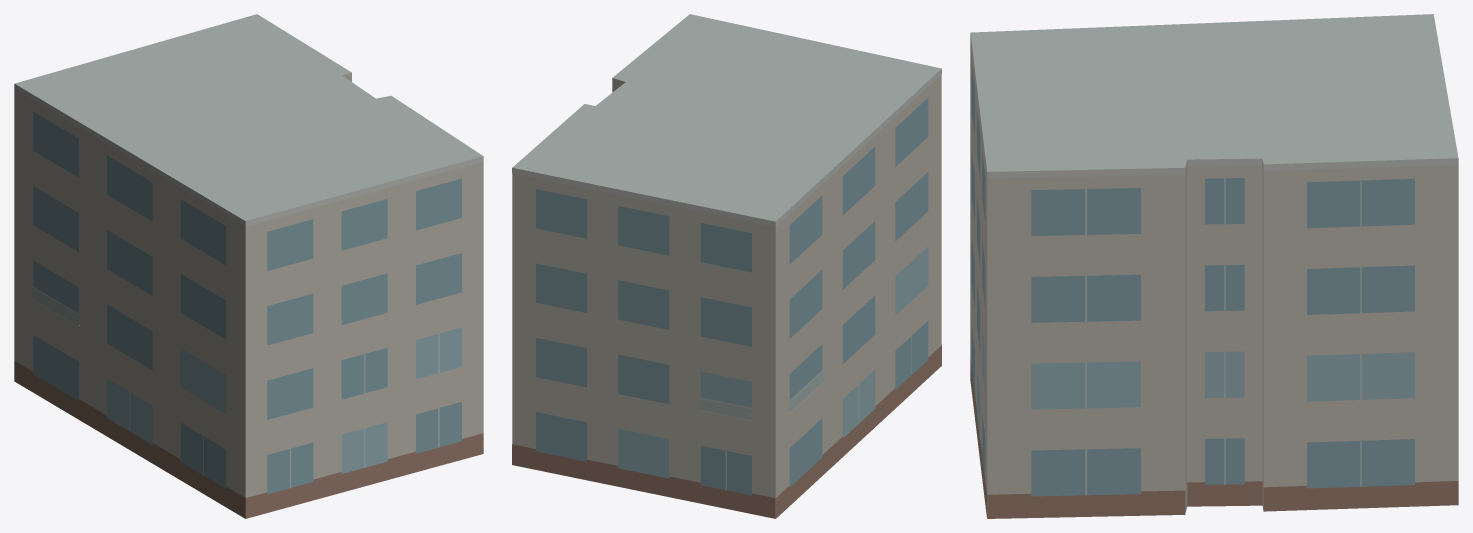
Rendered from survey-upis-32804135.glb.
3 views of the same model, side by side, from view 1: azimuth 30°, elevation 25°; view 2: azimuth 150°, elevation 25°; view 3: azimuth 270°, elevation 25° (orthographic). The views are drawn at different scales.
Parts seen in each view (by area): view 1: survey-upis-32804135.tmp; view 2: survey-upis-32804135.tmp; view 3: survey-upis-32804135.tmp.
Part boxes in pixels (left/top/right/bottom): survey-upis-32804135.tmp: left=14, top=14, right=483, bottom=518; survey-upis-32804135.tmp: left=512, top=14, right=941, bottom=518; survey-upis-32804135.tmp: left=970, top=14, right=1458, bottom=518.
Bounding box in the file's own units: 12.5 × 12.8 × 16.33.
